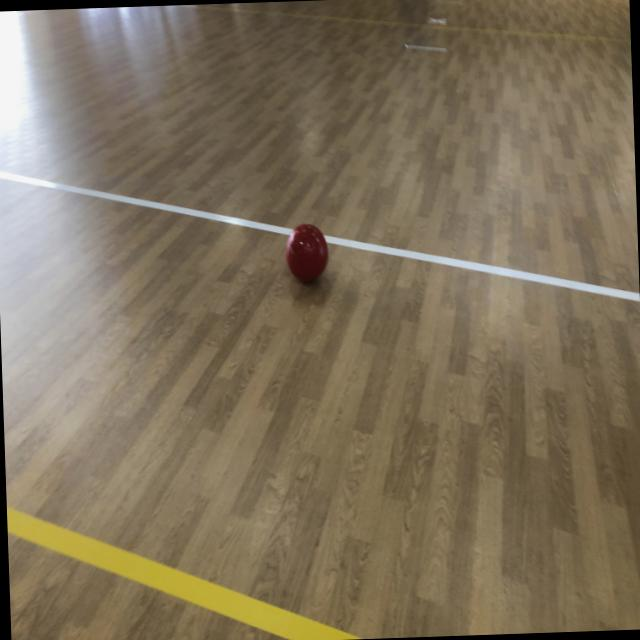red_ball: (285, 222, 329, 284)
